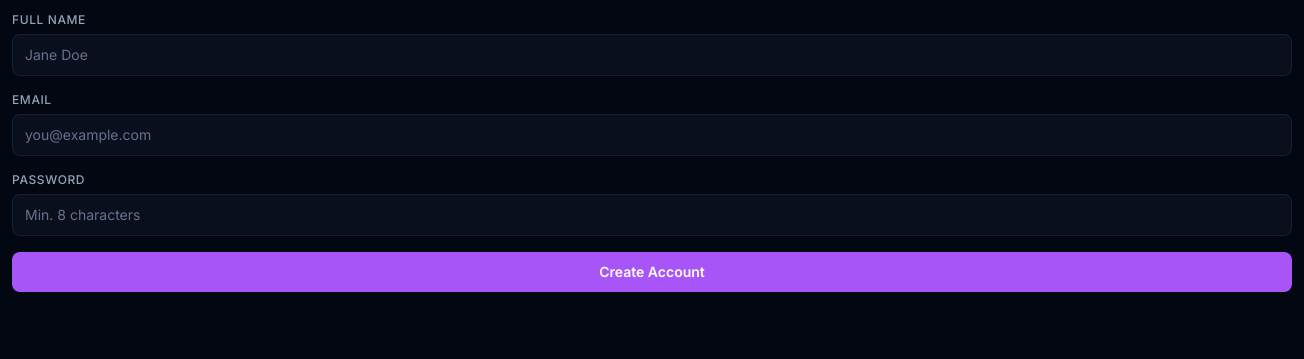
Test case: SignupForm › shows validation error when fields are empty
Click the button "Create Account": (652, 272) [12,252,1292,292]
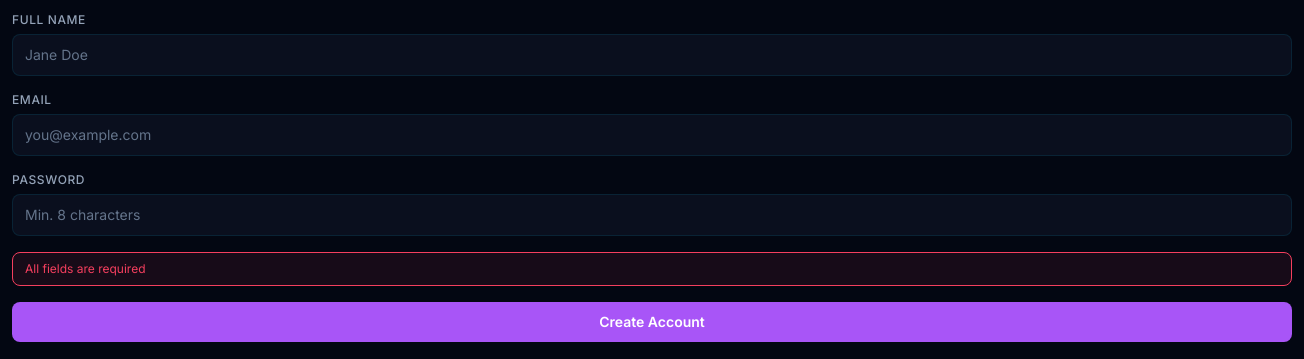
Now the message "All fields are required" is shown, box [12,252,1292,286]
